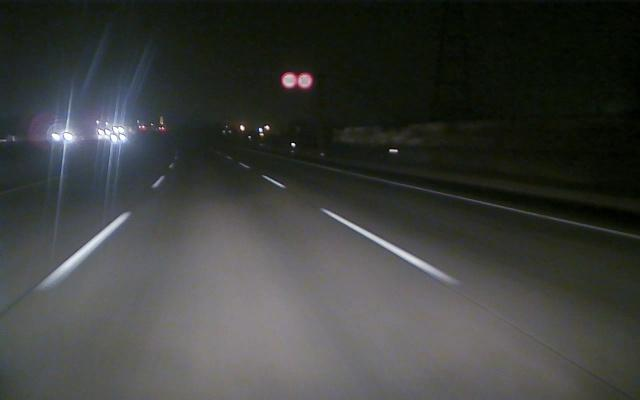lane: (266, 178, 461, 284), (356, 174, 637, 240), (36, 166, 169, 291)
